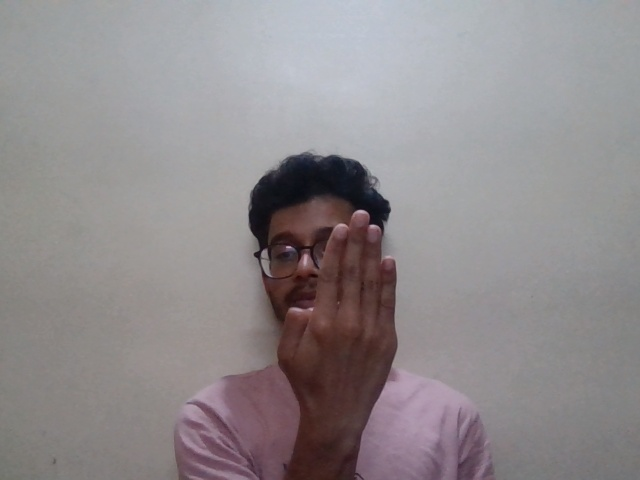good-bye: (280, 216, 415, 450)
